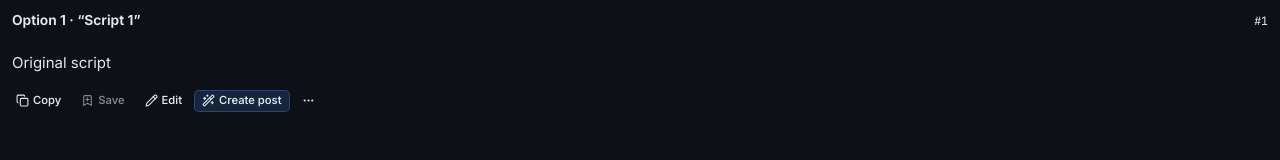
Test: collectImageScriptChoices › shows ES/EN hook and awareness labels in the more menu
What coordinates should you click on to do the following:
click the button named "more actions"
I would click on:
 (308, 100)
Its box is [294,89,322,111].
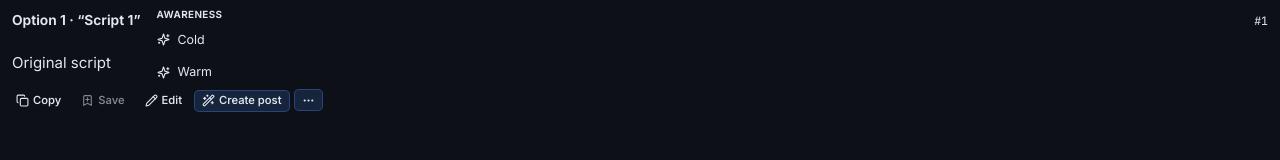
Expected: the menu item "Cold" is shown, [146,24,318,56]
Expected: the menu item "Warm" is shown, [146,56,318,83]
